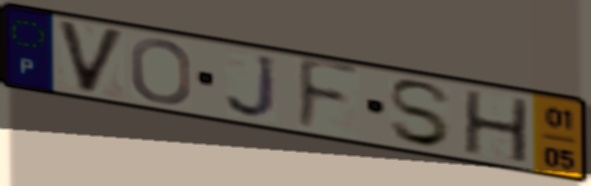F: (294, 54, 363, 135)
H: (459, 88, 532, 167)
J: (223, 53, 281, 122)
O: (128, 36, 195, 106)
S: (386, 77, 456, 149)
V: (53, 17, 129, 98)
